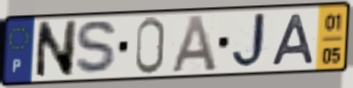0: (134, 15, 167, 77)
A: (168, 13, 220, 75), (270, 12, 318, 68)
J: (230, 10, 272, 72)
N: (33, 18, 80, 81)
S: (73, 18, 121, 78)
